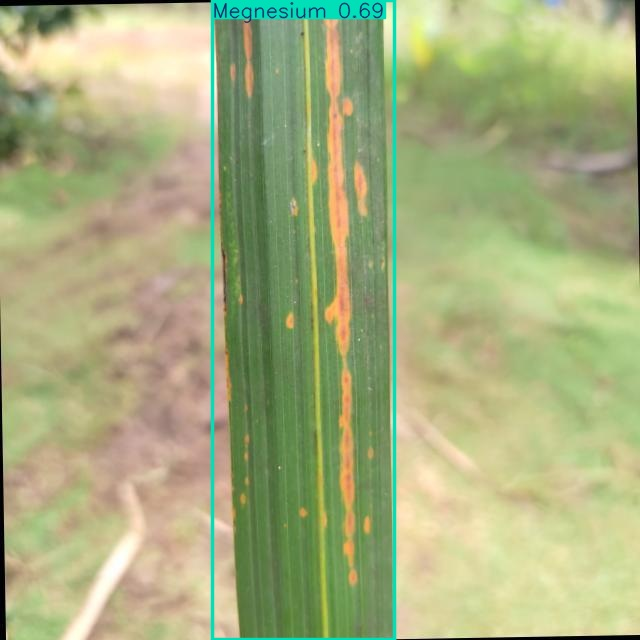Megnesium: (212, 0, 395, 640)
